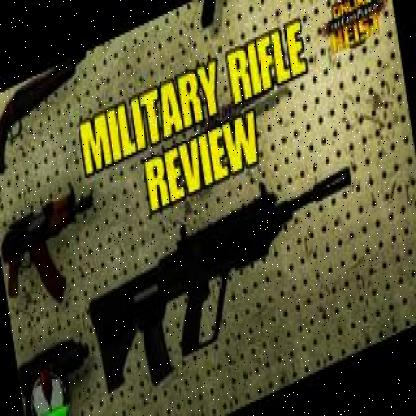rifle: (88, 146, 372, 406)
